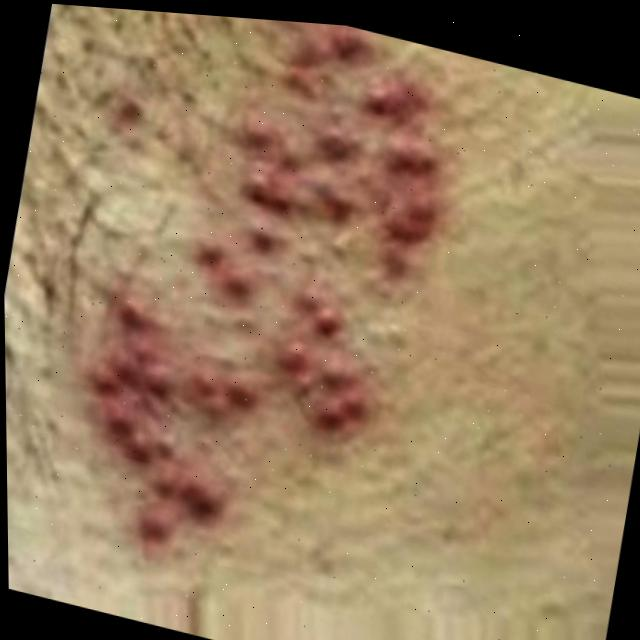Shingles: (57, 4, 473, 624)
